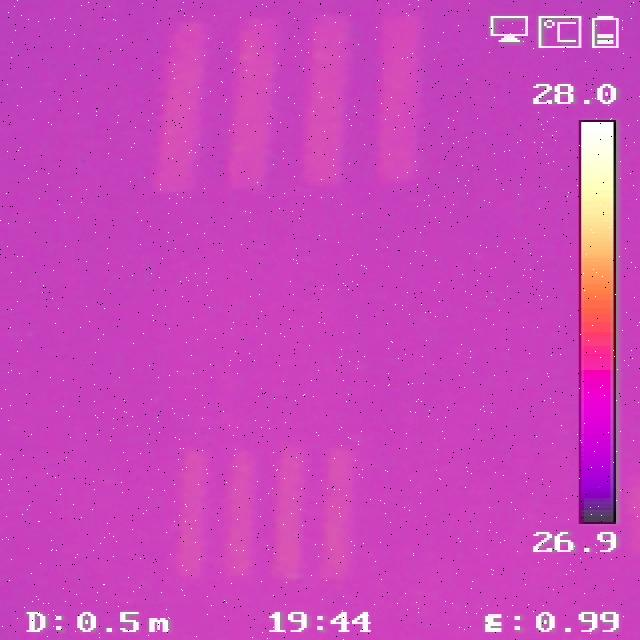Distinguishable 4-bar target: (155, 11, 421, 187), (173, 440, 355, 577)
